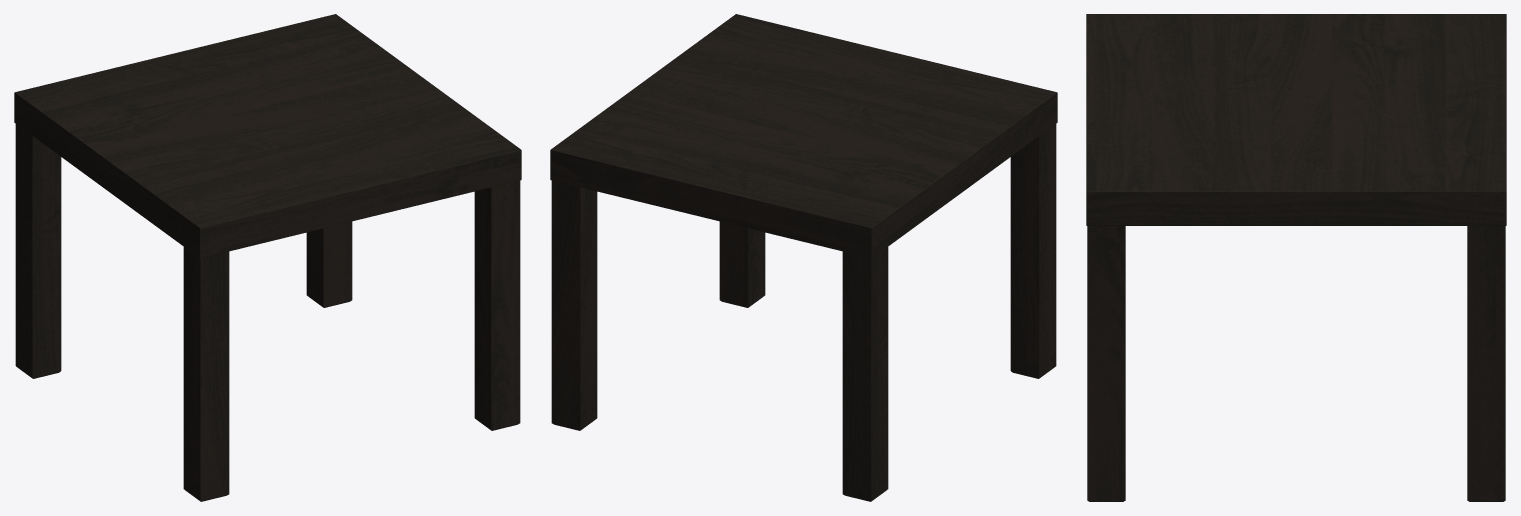
File: 34 - LACK Side table - black-brown 55x55 cm.glb
The picture shows the model from 3 angles, left to right: view 1: azimuth 30°, elevation 25°; view 2: azimuth 150°, elevation 25°; view 3: azimuth 270°, elevation 25°; orthographic projection. The views are drawn at different scales.
Visible parts, largest first — view 1: model; view 2: model; view 3: model.
Part boxes in pixels (x1=…): model: x1=14, y1=14, x2=521, y2=501; model: x1=550, y1=14, x2=1057, y2=501; model: x1=1086, y1=14, x2=1506, y2=501.
Size of the model in its own units: 0.55 by 0.45 by 0.55.
Materials: 1 (1 with a texture image).
